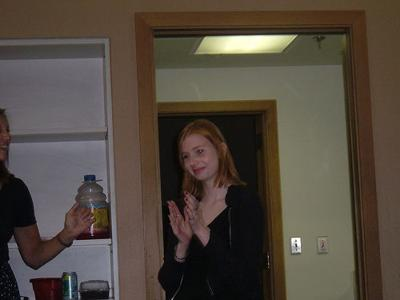person: (154, 118, 268, 300)
